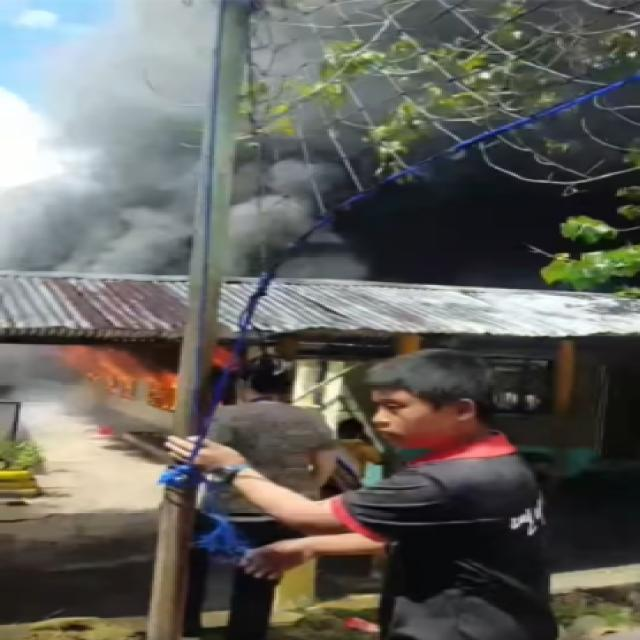Fire: (14, 339, 219, 408)
Smoke: (244, 101, 614, 288), (0, 0, 216, 280)
